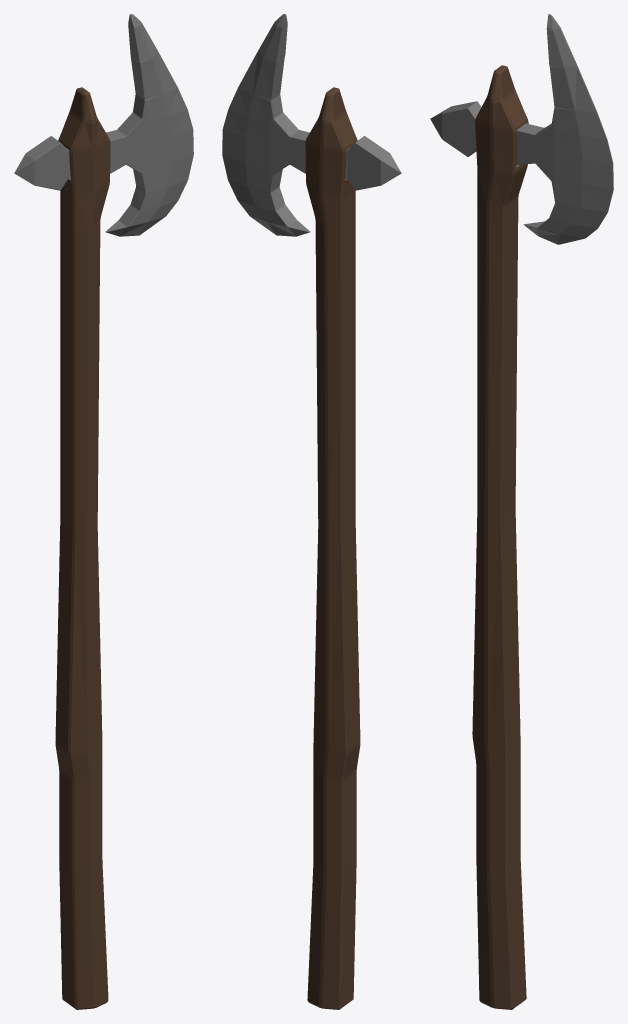
File: Axe.fbx
3 renders of one model, left to right at view 1: azimuth 30°, elevation 25°; view 2: azimuth 150°, elevation 25°; view 3: azimuth 330°, elevation 25°, orthographic. The views are drawn at different scales.
Parts seen in each view (by area): view 1: Axe; view 2: Axe; view 3: Axe.
Boxes of the visible parts, box(x1,y1,x2,y2) form: Axe: box(14, 14, 193, 1009); Axe: box(222, 14, 401, 1009); Axe: box(430, 14, 613, 1009).
Size of the model in its own units: 32.72 by 170 by 6.36.
